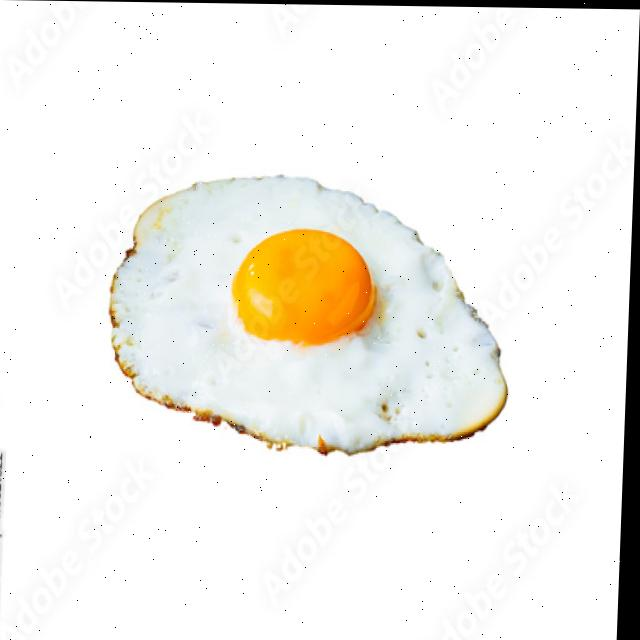Egg: (113, 177, 510, 453)
